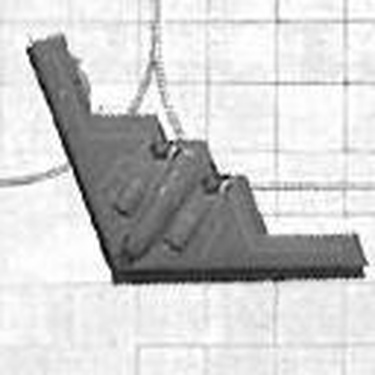airplane: (6, 31, 371, 301)
